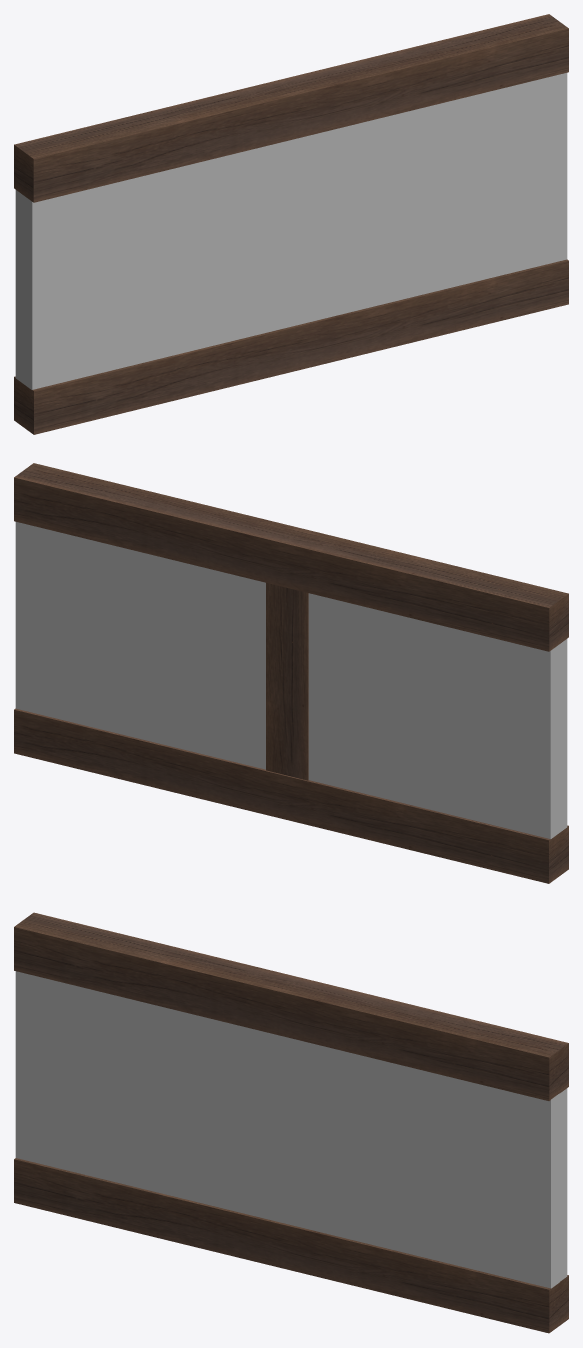
File: yane_frame_side_1t_a.fbx
3 views of the same model, one above another, from view 1: azimuth 30°, elevation 25°; view 2: azimuth 150°, elevation 25°; view 3: azimuth 330°, elevation 25° (orthographic).
Parts seen in each view (by area): view 1: yane_frame_side_1t_a; view 2: yane_frame_side_1t_a; view 3: yane_frame_side_1t_a.
Boxes of the visible parts, left/top/right/bottom form: yane_frame_side_1t_a: left=14, top=14, right=568, bottom=434; yane_frame_side_1t_a: left=14, top=463, right=568, bottom=883; yane_frame_side_1t_a: left=14, top=912, right=568, bottom=1333.
Bounding box in the file's own units: 220 × 109 × 14.1.
